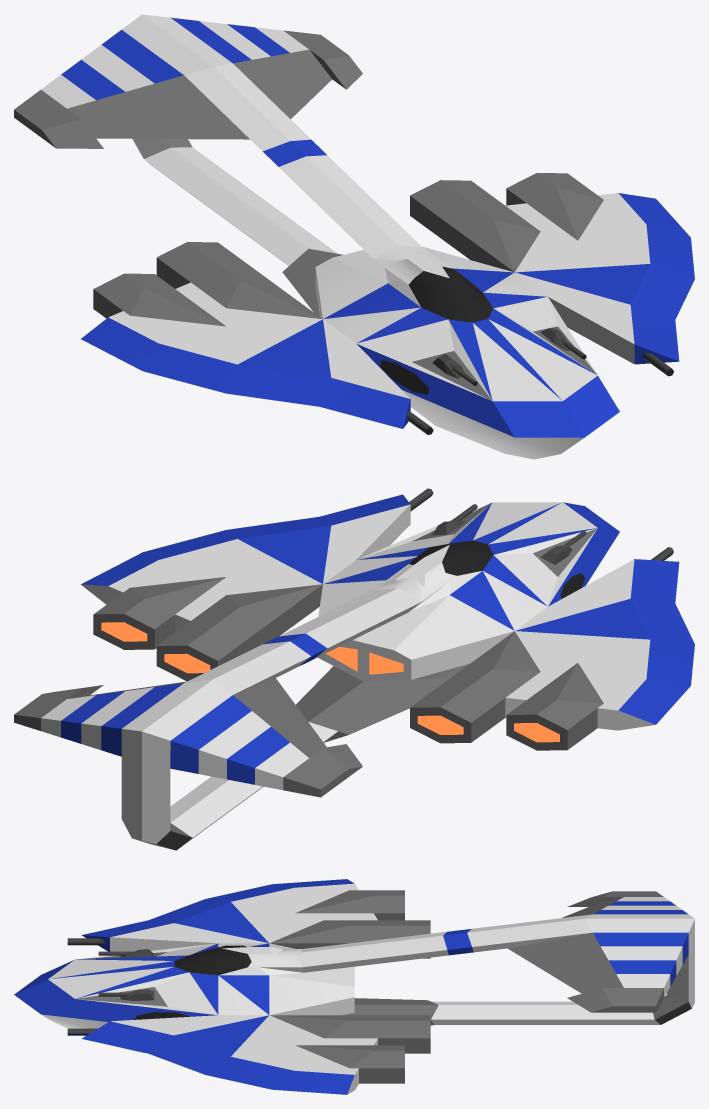
The model's file is SpaceshipSolusguard16.fbx.
3 renders of one model, top to bottom at view 1: azimuth 30°, elevation 25°; view 2: azimuth 150°, elevation 25°; view 3: azimuth 270°, elevation 25°, orthographic. The views are drawn at different scales.
Parts seen in each view (by area): view 1: SpaceshipSolusguard16; view 2: SpaceshipSolusguard16; view 3: SpaceshipSolusguard16.
Part boxes in pixels (box(x1,y1,x2,y2)): SpaceshipSolusguard16: box(14, 14, 694, 459); SpaceshipSolusguard16: box(14, 488, 694, 850); SpaceshipSolusguard16: box(14, 879, 694, 1094).
Size of the model in its own units: 750 by 223 by 1000.
